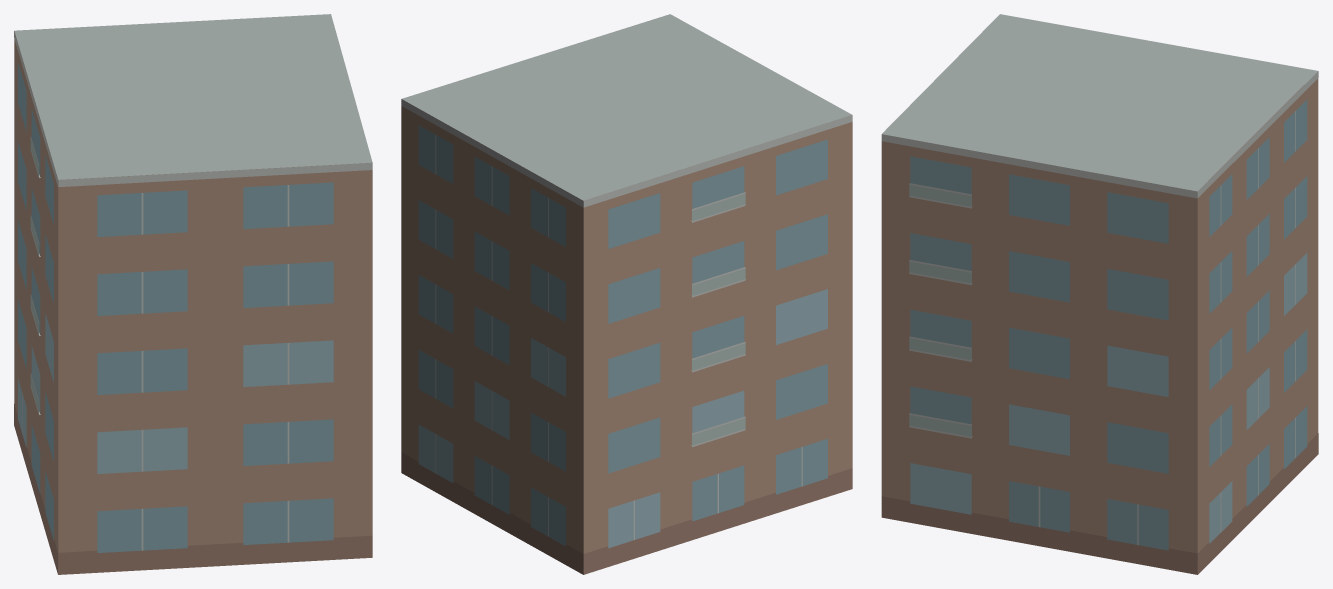
The model's file is survey-upis-32999834.glb.
3 renders of one model, left to right at view 1: azimuth 30°, elevation 25°; view 2: azimuth 150°, elevation 25°; view 3: azimuth 270°, elevation 25°, orthographic. The views are drawn at different scales.
Parts seen in each view (by area): view 1: survey-upis-32999834.tmp; view 2: survey-upis-32999834.tmp; view 3: survey-upis-32999834.tmp.
Part boxes in pixels (x1,y1,x2,y2): survey-upis-32999834.tmp: [14, 14, 372, 574]; survey-upis-32999834.tmp: [401, 14, 852, 574]; survey-upis-32999834.tmp: [881, 14, 1318, 574].
Bounding box in the file's own units: 13.16 × 13.25 × 13.69.
